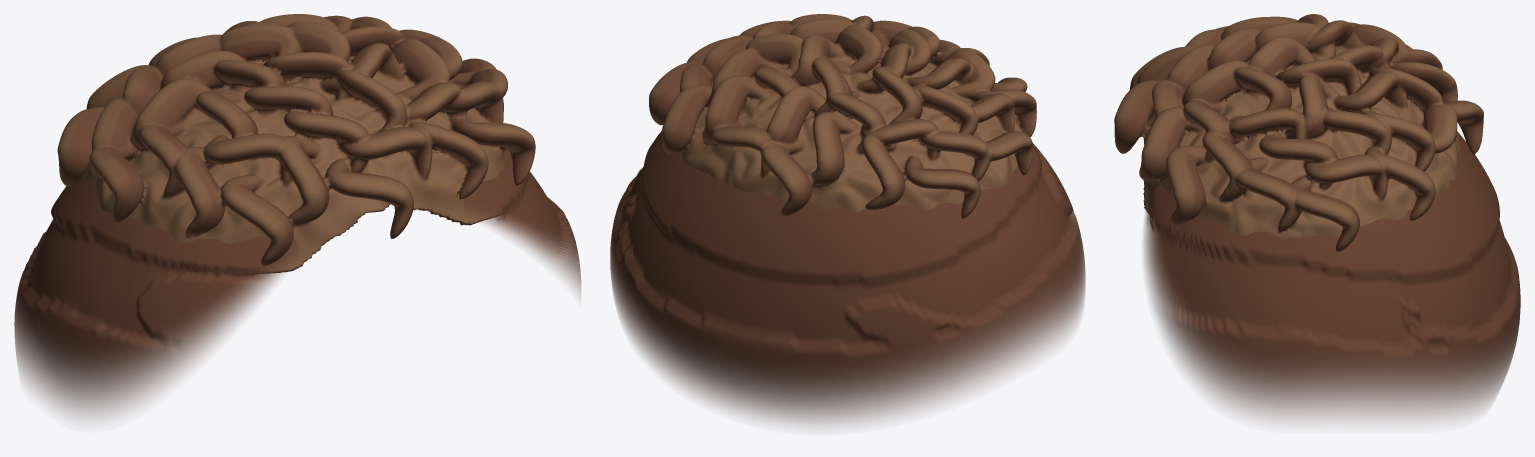
File: Highlights-8fae4cc57f24252-hair.glb
3 views of the same model, side by side, from view 1: azimuth 30°, elevation 25°; view 2: azimuth 150°, elevation 25°; view 3: azimuth 270°, elevation 25° (orthographic). The views are drawn at different scales.
Parts seen in each view (by area): view 1: 226 hair / Hair252 / sculpted curl groups.001, 226 hair / Hair252 / curly close fade coverage.001; view 2: 226 hair / Hair252 / curly close fade coverage.001, 226 hair / Hair252 / sculpted curl groups.001; view 3: 226 hair / Hair252 / curly close fade coverage.001, 226 hair / Hair252 / sculpted curl groups.001.
Part boxes in pixels (box(x1,y1,x2,y2)): 226 hair / Hair252 / sculpted curl groups.001: box(57, 14, 535, 273); 226 hair / Hair252 / curly close fade coverage.001: box(14, 152, 580, 418); 226 hair / Hair252 / curly close fade coverage.001: box(610, 130, 1085, 425); 226 hair / Hair252 / sculpted curl groups.001: box(649, 14, 1036, 218); 226 hair / Hair252 / curly close fade coverage.001: box(1143, 131, 1520, 420); 226 hair / Hair252 / sculpted curl groups.001: box(1114, 14, 1483, 251).
Size of the model in its own units: 0.976 by 0.7233 by 0.762.
Materials: 2 (2 with a texture image).
